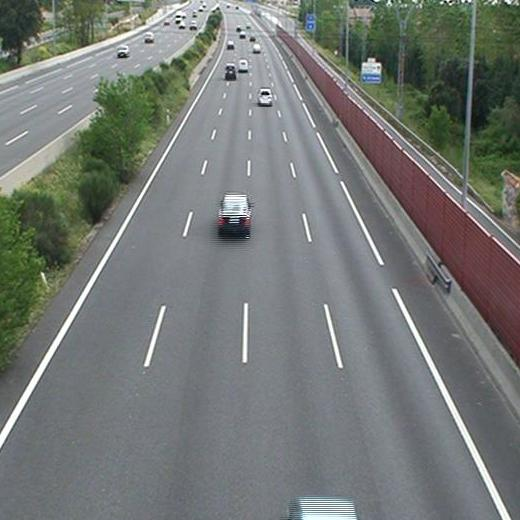car: (218, 194, 250, 229), (258, 88, 273, 105), (224, 64, 236, 78), (237, 59, 248, 71), (252, 44, 263, 52), (226, 41, 234, 49)
